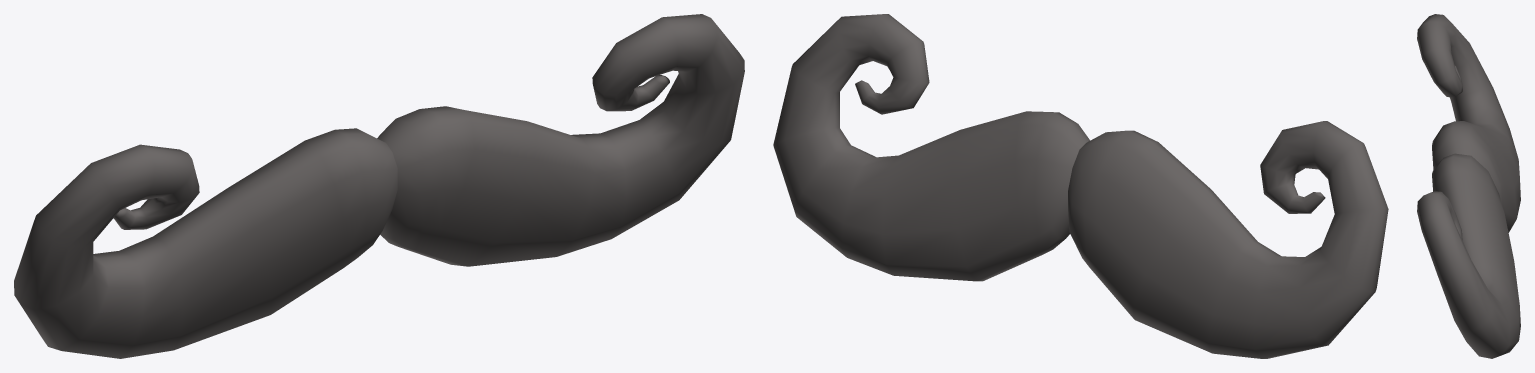
File: Beard_16_04.fbx
The picture shows the model from 3 angles, left to right: view 1: azimuth 30°, elevation 25°; view 2: azimuth 150°, elevation 25°; view 3: azimuth 270°, elevation 25°; orthographic projection. The views are drawn at different scales.
Visible parts, largest first — view 1: Beard_16_04; view 2: Beard_16_04; view 3: Beard_16_04.
Part boxes in pixels (x1,y1,x2,y2): Beard_16_04: (14, 14, 744, 358); Beard_16_04: (773, 14, 1388, 358); Beard_16_04: (1417, 14, 1520, 358).
Bounding box in the file's own units: 14.58 × 4.99 × 2.74.
